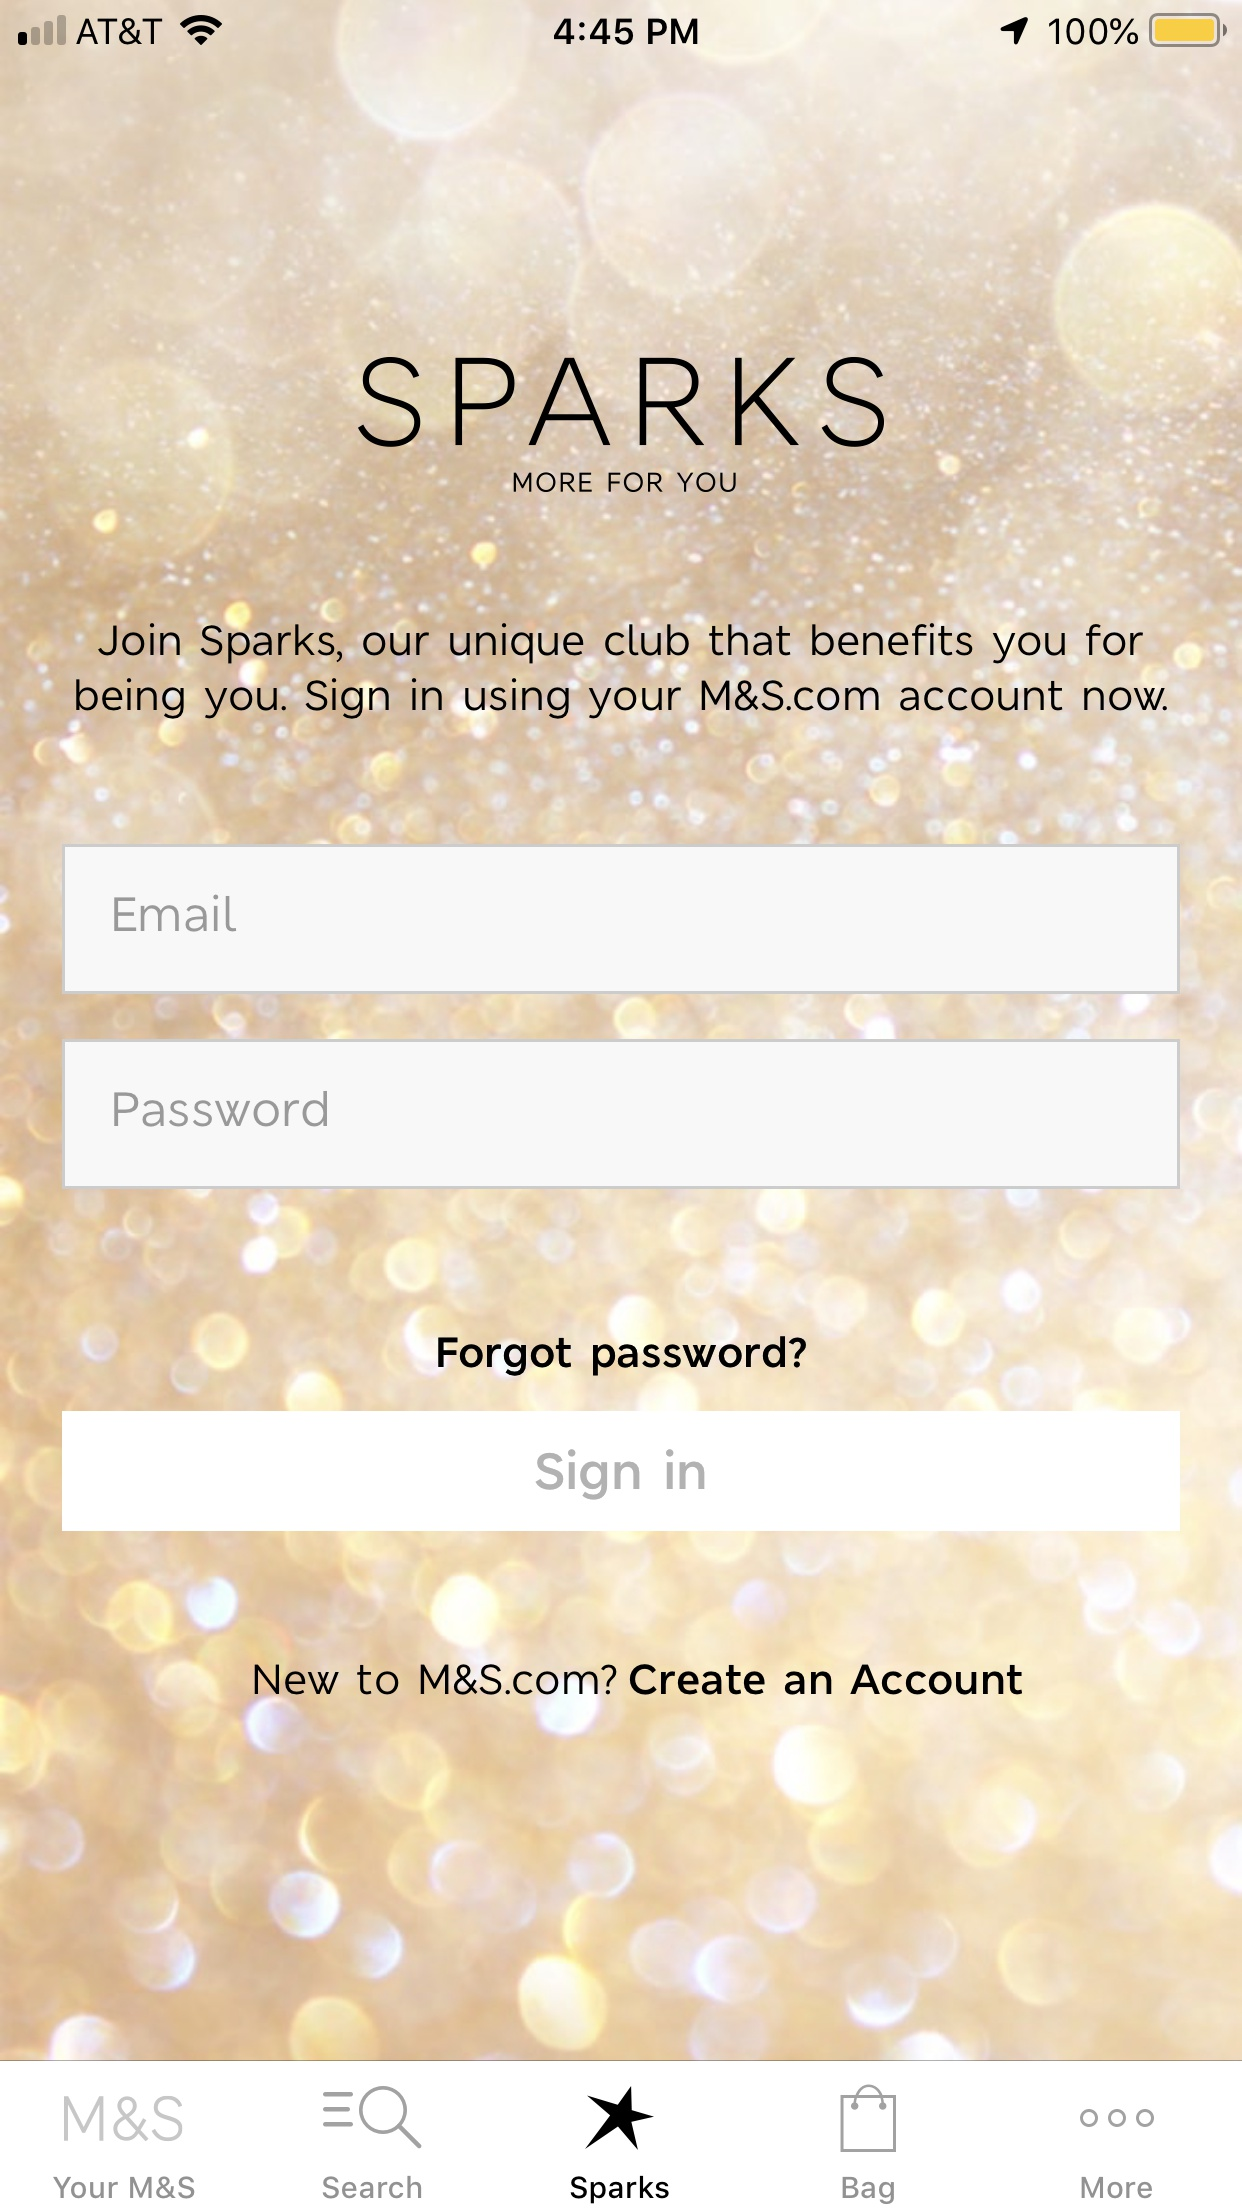BackgroundImage: (2, 2, 1242, 2059)
EditText: (64, 1039, 1181, 1190), (62, 845, 1181, 995)
Icon: (323, 2085, 423, 2149), (585, 2085, 655, 2150), (840, 2084, 898, 2153), (1080, 2108, 1156, 2128)
Text: (76, 623, 1168, 720), (356, 356, 886, 449), (253, 1664, 1024, 1695), (437, 1335, 807, 1377), (114, 1090, 329, 1128), (65, 2094, 183, 2141), (513, 472, 737, 494), (114, 895, 238, 936), (55, 2175, 196, 2200), (570, 2175, 670, 2205), (323, 2175, 423, 2199), (1081, 2176, 1153, 2199), (842, 2176, 895, 2205)
TextButton: (62, 1410, 1181, 1532)
UpperTaskBar: (2, 2, 1242, 49)
